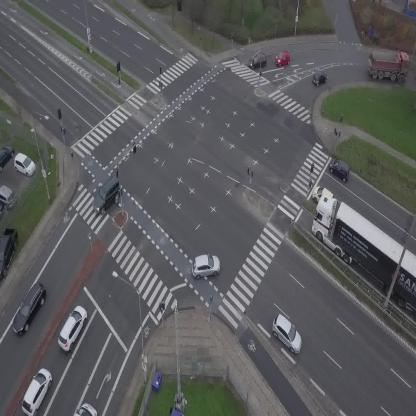car: (7, 281, 52, 338), (53, 304, 93, 354), (265, 312, 310, 356), (18, 366, 56, 416), (87, 177, 128, 217), (189, 251, 223, 281), (326, 155, 354, 182), (310, 182, 335, 203), (309, 69, 329, 87), (247, 53, 268, 70), (273, 49, 292, 67)
lorry: (367, 48, 411, 84), (74, 403, 97, 416)
